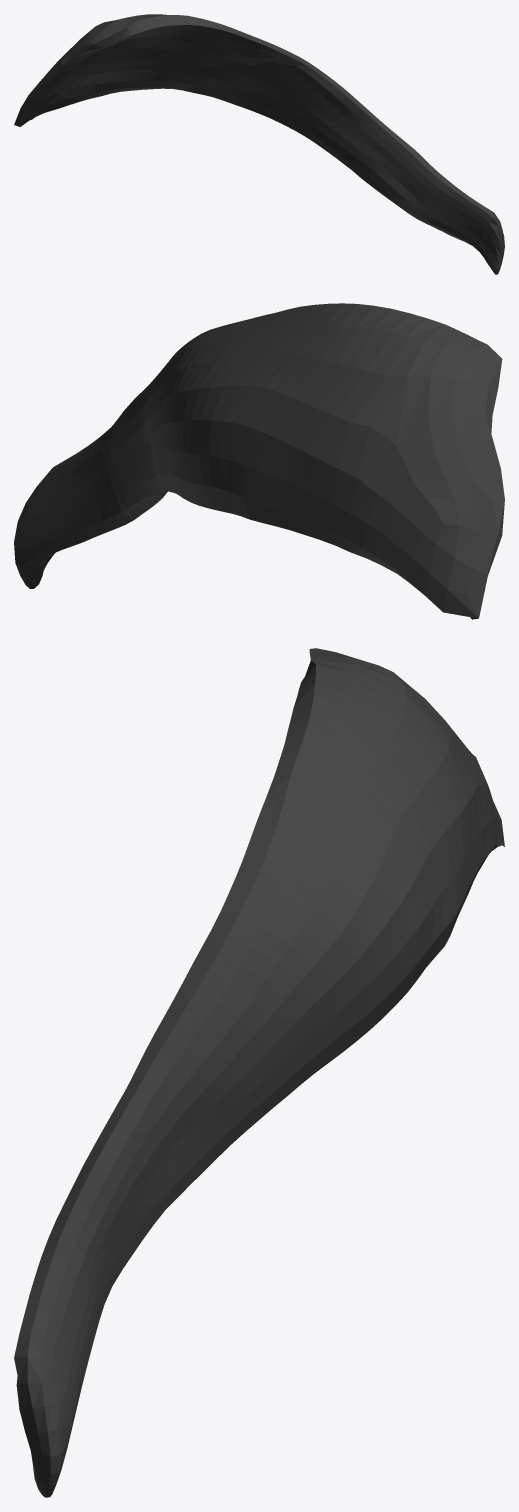
Rendered from cervicoauric_prof.glb.
3 renders of one model, top to bottom at view 1: azimuth 30°, elevation 25°; view 2: azimuth 150°, elevation 25°; view 3: azimuth 270°, elevation 25°, orthographic. The views are drawn at different scales.
Parts seen in each view (by area): view 1: cervicoauric_prof; view 2: cervicoauric_prof; view 3: cervicoauric_prof.
Boxes of the visible parts, x1,y1,x2,y2 form: cervicoauric_prof: (14,14,504,274); cervicoauric_prof: (14,303,504,619); cervicoauric_prof: (14,648,504,1497).
Size of the model in its own units: 0.6783 by 0.4722 by 0.383.
Materials: 1 (1 with a texture image).
